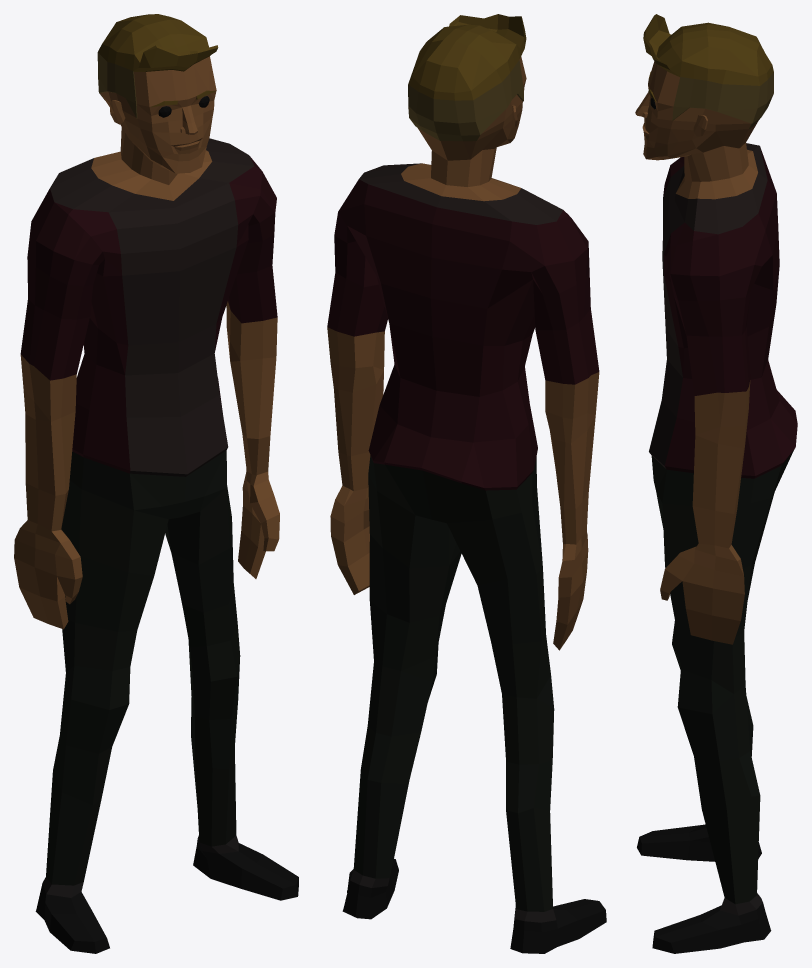
File: young.obj
The picture shows the model from 3 angles, left to right: view 1: azimuth 30°, elevation 25°; view 2: azimuth 150°, elevation 25°; view 3: azimuth 270°, elevation 25°; orthographic projection. The views are drawn at different scales.
Visible parts, largest first — view 1: BaseHuman_Cylinder.002; view 2: BaseHuman_Cylinder.002; view 3: BaseHuman_Cylinder.002.
Boxes of the visible parts, x1,y1,x2,y2 form: BaseHuman_Cylinder.002: (14, 14, 298, 953); BaseHuman_Cylinder.002: (327, 14, 606, 953); BaseHuman_Cylinder.002: (635, 14, 797, 953).
Bounding box in the file's own units: 1.43 × 4.84 × 0.8219.
